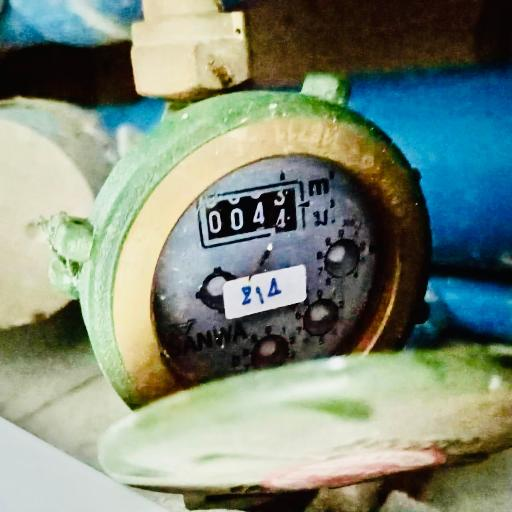0: (223, 196, 251, 236), (204, 200, 229, 240)
4: (270, 188, 298, 233), (246, 193, 274, 232)
border_water_meter_number: (193, 179, 311, 249)
